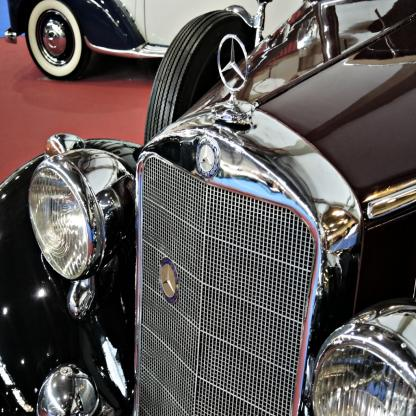Car: (2, 1, 416, 416), (5, 1, 398, 84)
